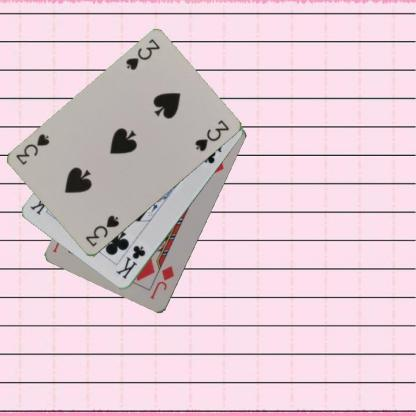3s: (123, 36, 161, 72), (83, 212, 120, 248)
Jd: (147, 263, 176, 301)
Kc: (113, 243, 148, 281)
